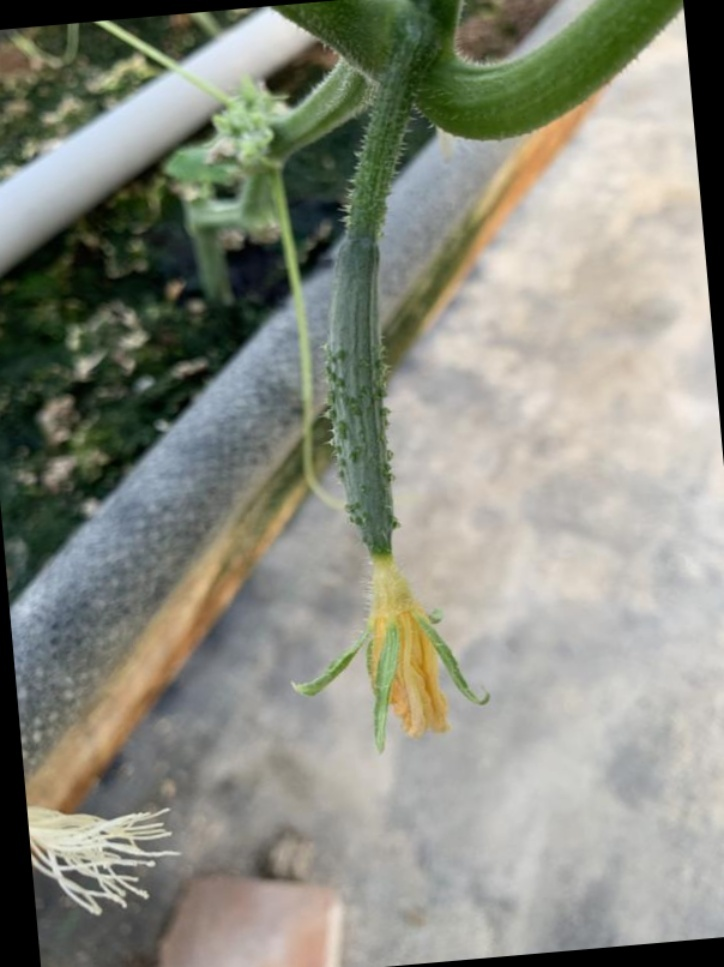bear: (280, 212, 498, 759)
